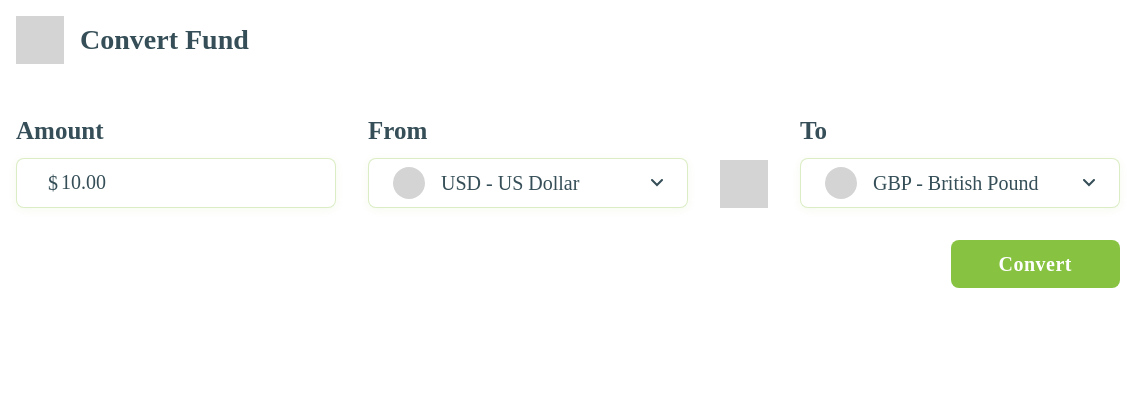
Test: Converter Component › Currency Conversion › should handle API errors gracefully
Click the button "Convert".
click(1035, 264)  # box left=950, top=240, right=1120, bottom=288
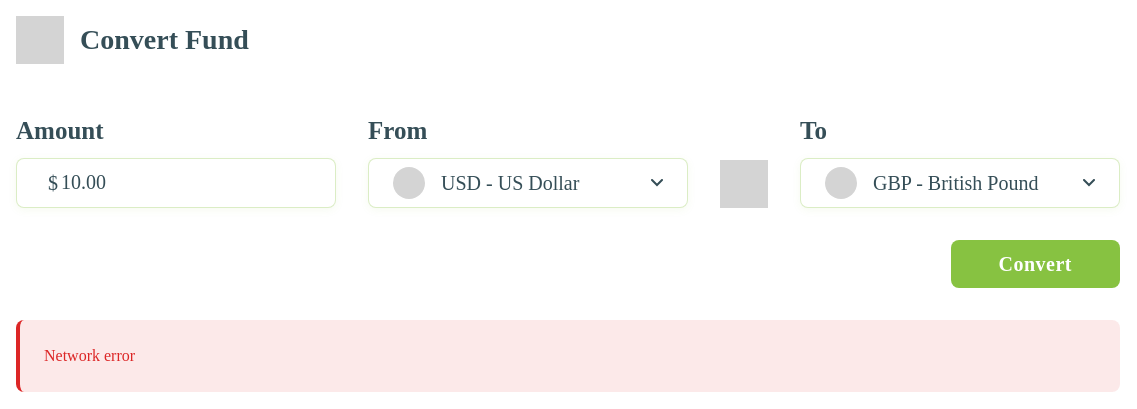
expect the text "Network error" is shown: met, box left=16, top=320, right=1120, bottom=392
